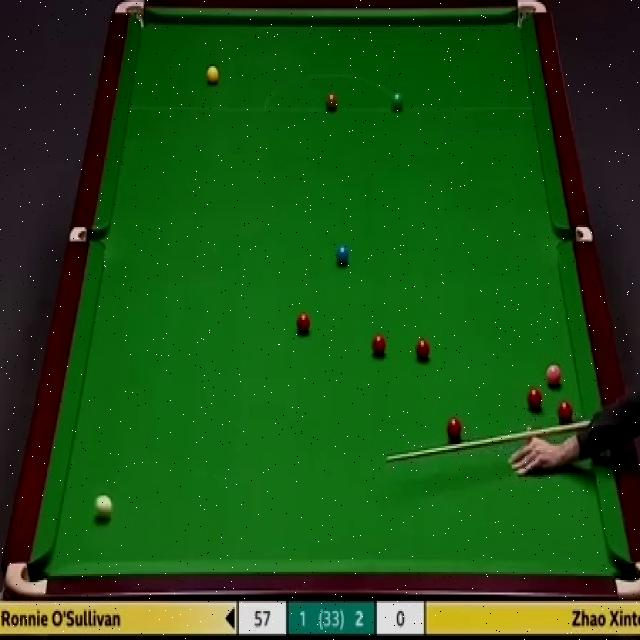blue-ball: (336, 241, 350, 268)
brown-ball: (324, 92, 340, 110)
green-ball: (390, 89, 405, 112)
pink-ball: (546, 365, 564, 387)
red-ball: (445, 418, 463, 444), (528, 386, 544, 415), (414, 338, 431, 362), (558, 402, 574, 426), (372, 332, 386, 359), (296, 310, 310, 332)
white-ball: (95, 493, 112, 522)
yellow-ball: (207, 66, 219, 86)
